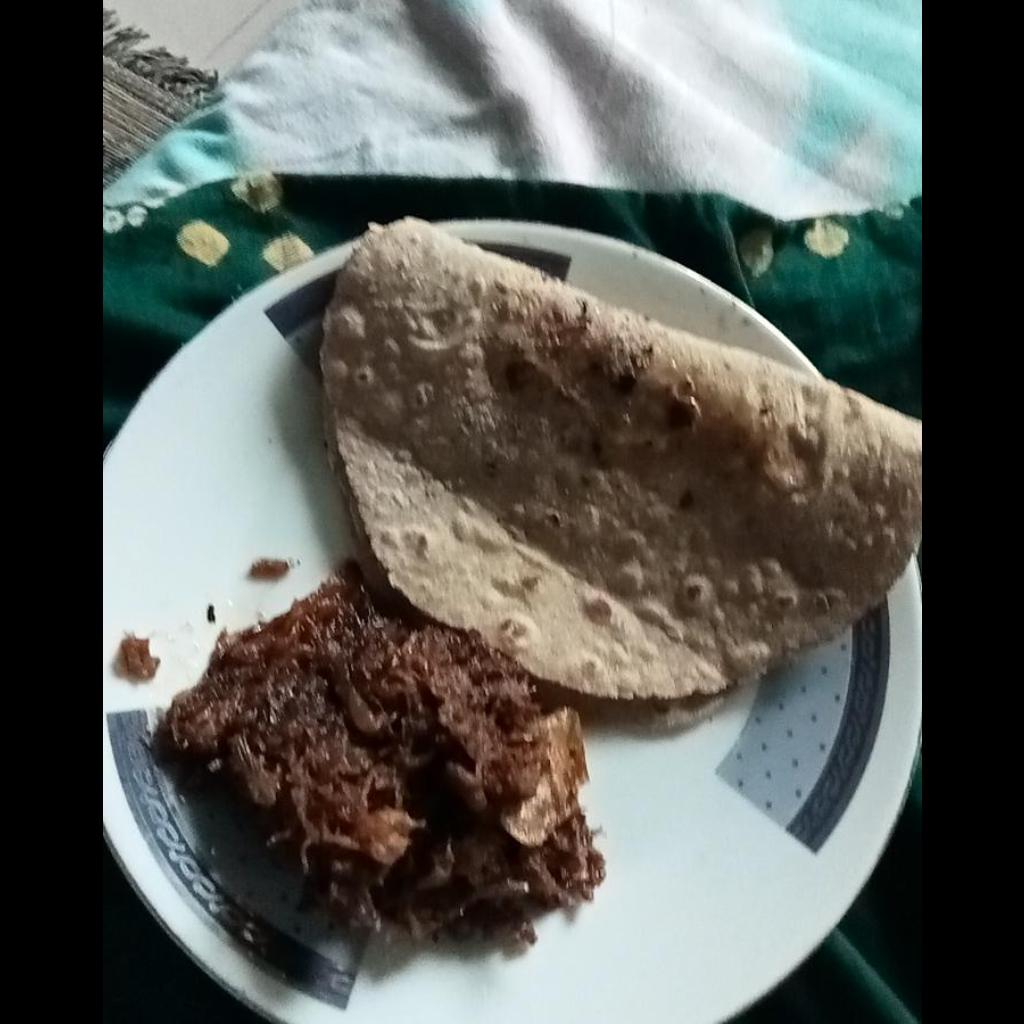beef: (151, 563, 608, 943)
ruti: (323, 219, 920, 699)
